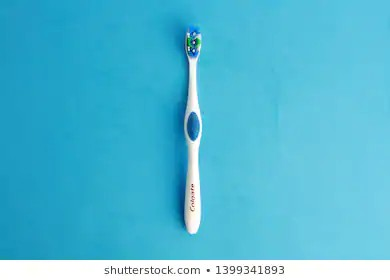toothbrush: (176, 24, 210, 238)
